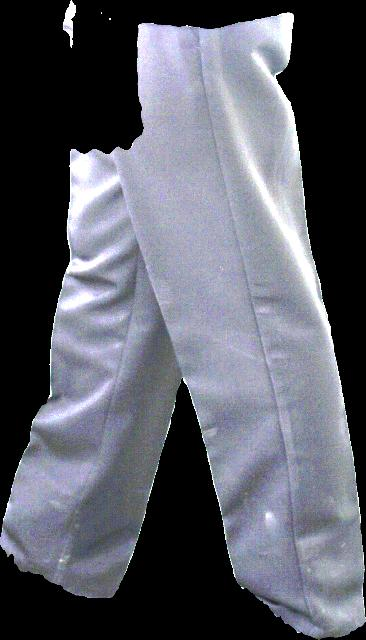blackpants: (0, 13, 365, 639)
